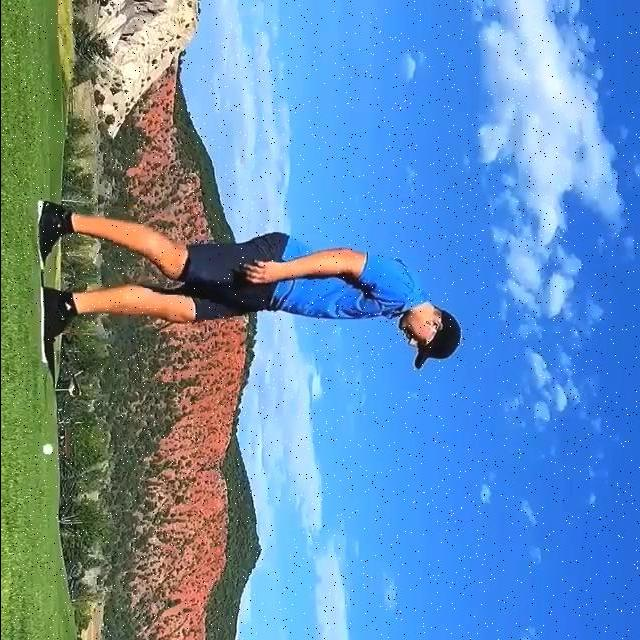golf ball: (43, 443, 60, 456)
